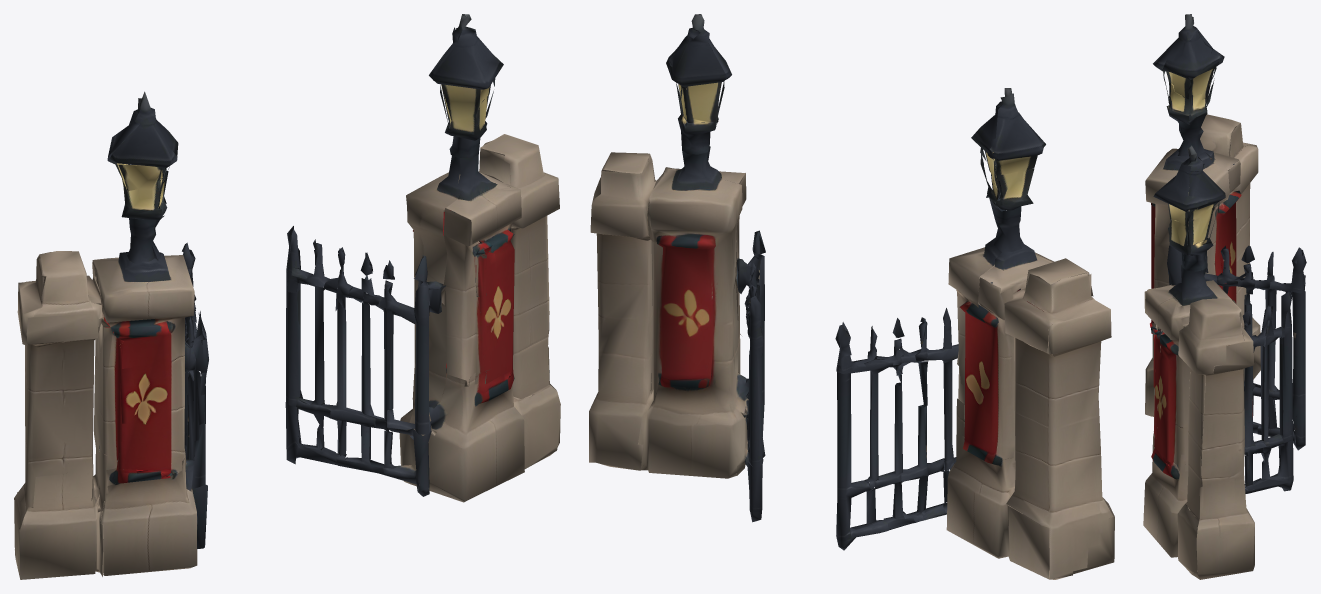
3 renders of one model, left to right at view 1: azimuth 30°, elevation 25°; view 2: azimuth 150°, elevation 25°; view 3: azimuth 270°, elevation 25°, orthographic. The views are drawn at different scales.
Visible parts, largest first — view 1: quad; view 2: quad; view 3: quad.
Boxes of the visible parts, x1=… form: quad: x1=14, y1=14, x2=560, y2=579; quad: x1=589, y1=14, x2=1114, y2=579; quad: x1=1143, y1=14, x2=1306, y2=579.
Size of the model in its own units: 800 by 661 by 248.
Materials: 1 (1 with a texture image).
